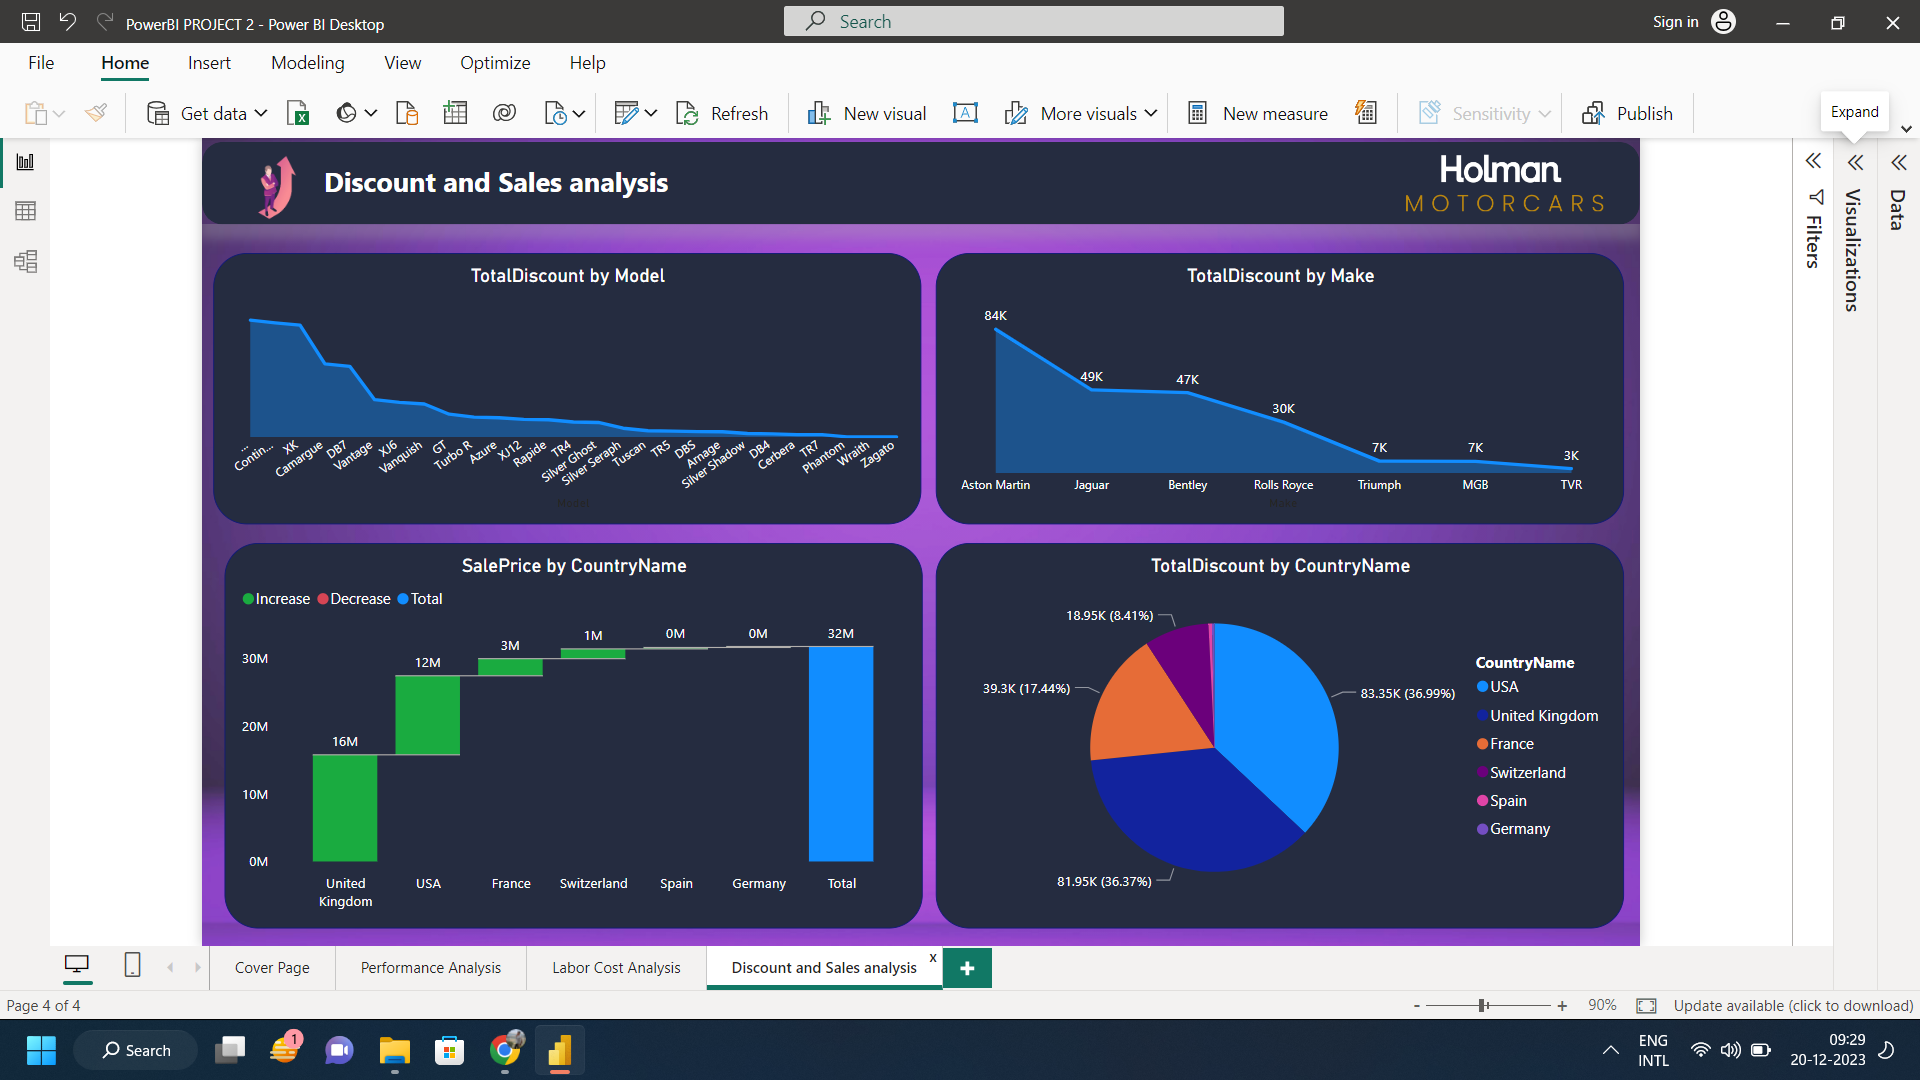

This screenshot's page, from the dashboard's own definition file:
{"tool":"powerbi","page":{"name":"Discount and Sales analysis","canvas":[1280,720],"ordinal":3},"visuals":[{"type":"waterfallChart","fields":{"Y":["Sum(BaseData.SalePrice)"],"Category":["BaseData.CountryName"]},"box":[20,360,621.4,342.9],"z":0},{"type":"pieChart","fields":{"Y":["Sum(BaseData.TotalDiscount)"],"Category":["BaseData.CountryName"]},"box":[652.9,360,612.9,342.9],"z":1000},{"type":"areaChart","fields":{"Y":["Sum(BaseData.TotalDiscount)"],"Category":["BaseData.Make"]},"box":[652.9,102.9,612.9,241.4],"z":2000},{"type":"areaChart","fields":{"Y":["Sum(BaseData.TotalDiscount)"],"Category":["BaseData.Model"]},"box":[10,102.9,630,241.4],"z":3000},{"type":"shape","box":[0,3.8,1280,73.8],"z":4000},{"type":"textbox","box":[103.3,18.3,365,58.3],"z":5000},{"type":"image","box":[1064.3,10,191.4,60],"z":6000},{"type":"image","box":[10,0,112.9,84.3],"z":7000}]}

Visuals, with their boxes on the page's 1280x720 design canvas (x1, y1, x2, y2). These are canvas units, not pixel positions in the 1920x1080 screenshot, which may show the page scaled, cropped or inside an application window:
waterfallChart - Sum(BaseData.SalePrice) x BaseData.CountryName: [x1=20, y1=360, x2=641, y2=703]
pieChart - Sum(BaseData.TotalDiscount) x BaseData.CountryName: [x1=653, y1=360, x2=1266, y2=703]
areaChart - Sum(BaseData.TotalDiscount) x BaseData.Make: [x1=653, y1=103, x2=1266, y2=344]
areaChart - Sum(BaseData.TotalDiscount) x BaseData.Model: [x1=10, y1=103, x2=640, y2=344]
shape: [x1=0, y1=4, x2=1280, y2=78]
textbox: [x1=103, y1=18, x2=468, y2=77]
image: [x1=1064, y1=10, x2=1256, y2=70]
image: [x1=10, y1=0, x2=123, y2=84]
